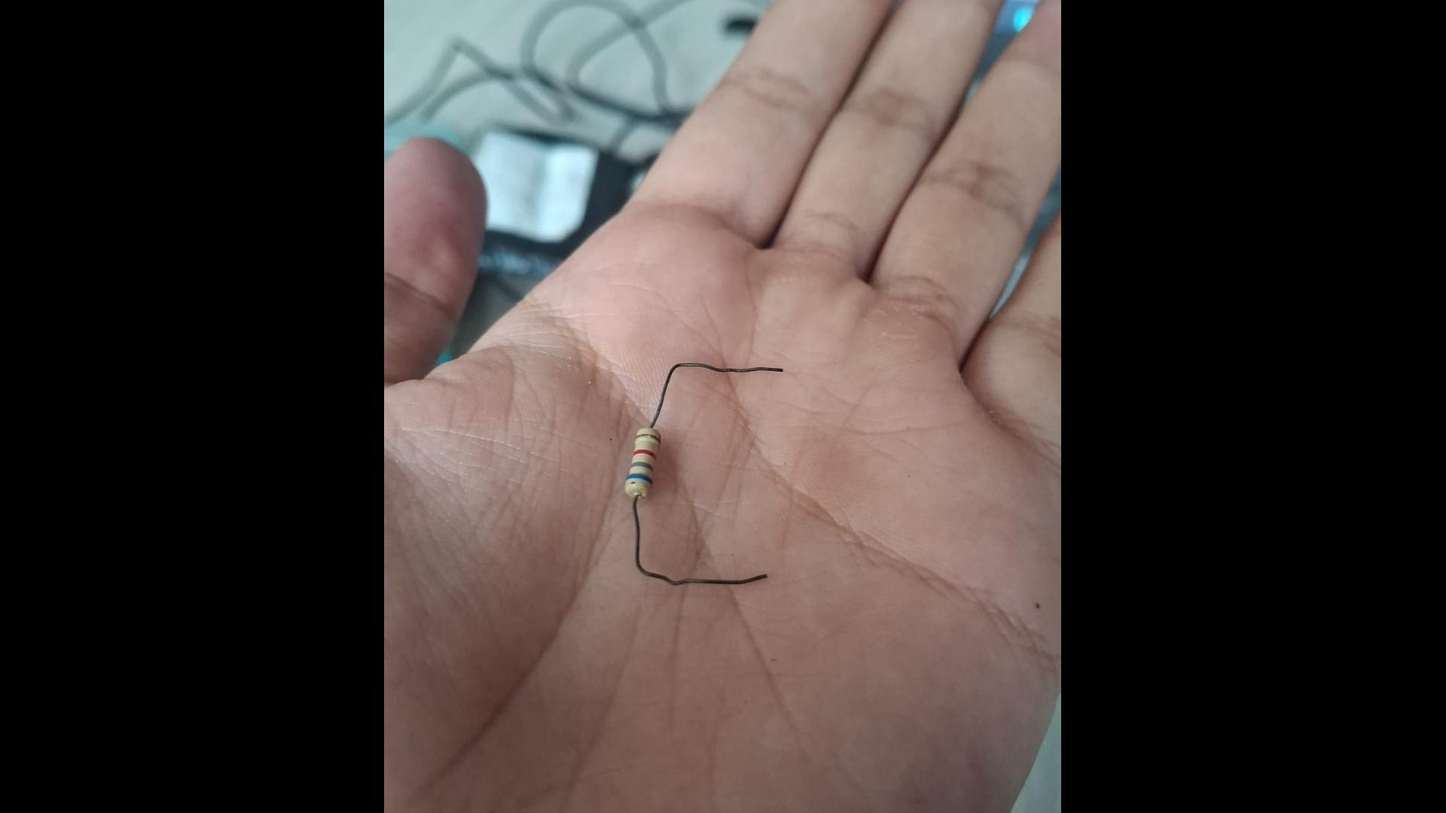Resistencia: (625, 361, 783, 587)
